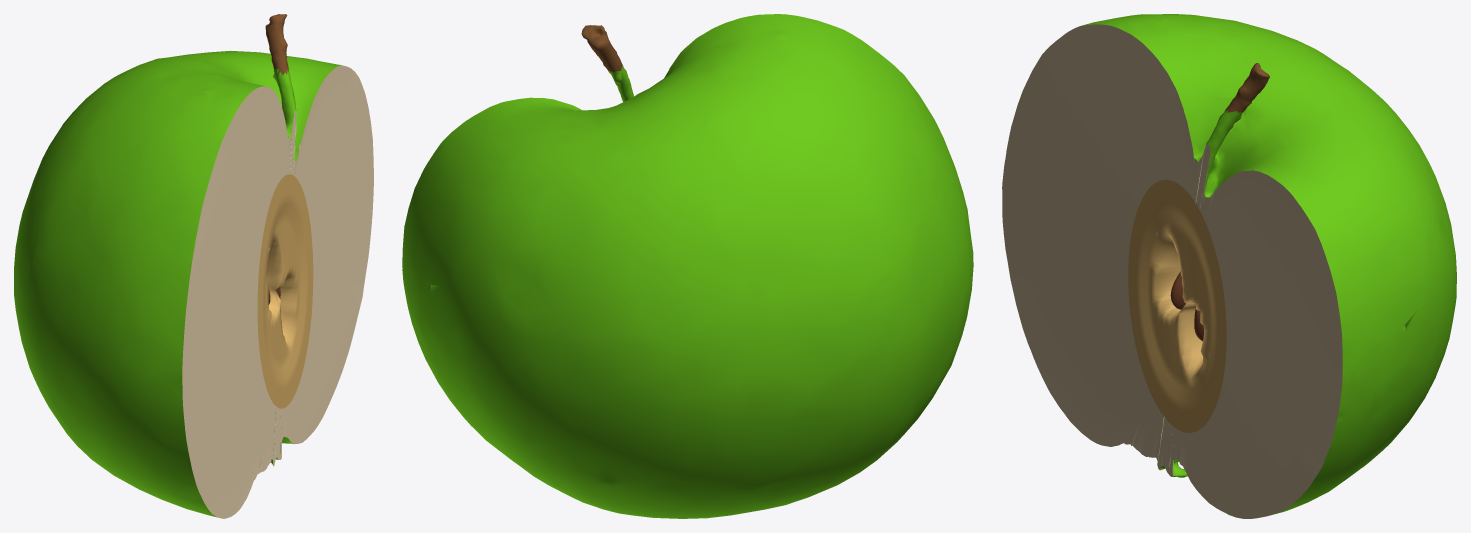
The model's file is apple_half_realistic.glb.
The picture shows the model from 3 angles, left to right: view 1: azimuth 30°, elevation 25°; view 2: azimuth 150°, elevation 25°; view 3: azimuth 270°, elevation 25°; orthographic projection. The views are drawn at different scales.
Visible parts, largest first — view 1: AppleHalf, AppleFlesh, AppleCore; view 2: AppleHalf; view 3: AppleFlesh, AppleHalf, AppleCore.
Boxes of the visible parts, x1=… form: AppleHalf: x1=14, y1=14, x2=341, y2=518; AppleFlesh: x1=182, y1=65, x2=373, y2=518; AppleCore: x1=257, y1=174, x2=313, y2=408; AppleHalf: x1=402, y1=14, x2=973, y2=518; AppleFlesh: x1=1002, y1=24, x2=1342, y2=518; AppleHalf: x1=1081, y1=14, x2=1456, y2=514; AppleCore: x1=1128, y1=179, x2=1226, y2=432.
Bounding box in the file's own units: 0.0863 × 0.0854 × 0.0793.
